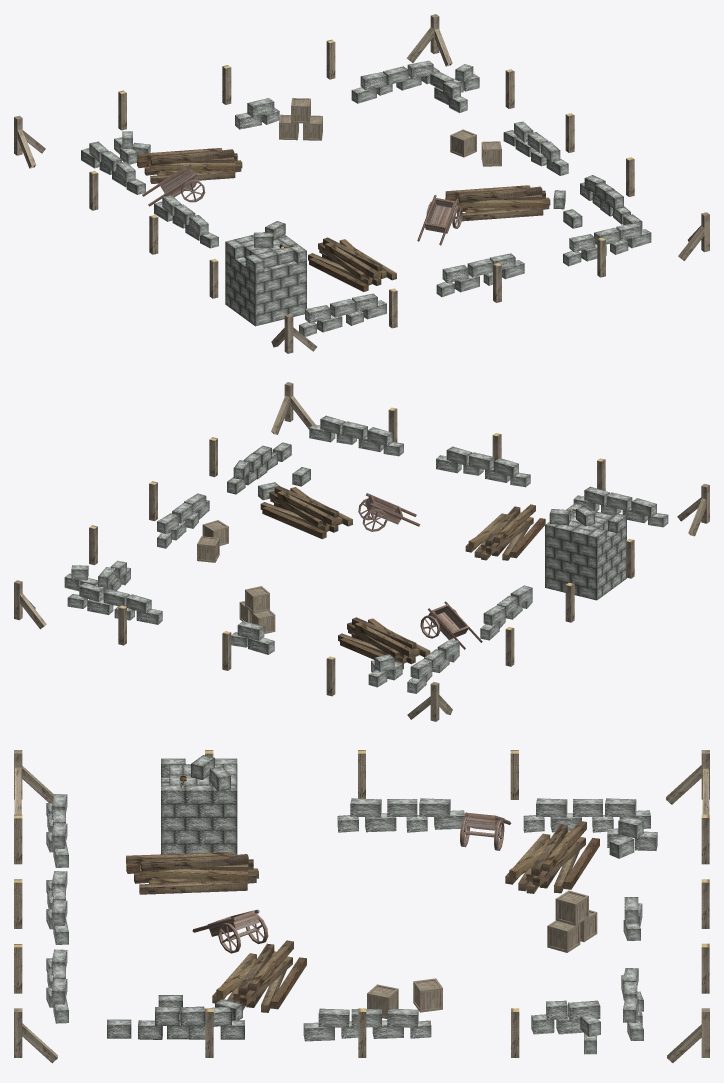
Rendered from fndn_8x9.glb.
3 views of the same model, one above another, from view 1: azimuth 30°, elevation 25°; view 2: azimuth 150°, elevation 25°; view 3: azimuth 270°, elevation 25° (orthographic). The views are drawn at different scales.
Visible parts, largest first — view 1: fndn_8x9_part35, fndn_8x9_part52, fndn_8x9_part51, fndn_8x9_part50, fndn_8x9_part43, fndn_8x9_part41, fndn_8x9_part42, fndn_8x9_part34, fndn_8x9_part22, fndn_8x9_part21, fndn_8x9_part39, fndn_8x9_part40 (+9 smaller); view 2: fndn_8x9_part35, fndn_8x9_part52, fndn_8x9_part50, fndn_8x9_part51, fndn_8x9_part34, fndn_8x9_part41, fndn_8x9_part42, fndn_8x9_part43, fndn_8x9_part22, fndn_8x9_part39, fndn_8x9_part40, fndn_8x9_part21 (+10 smaller); view 3: fndn_8x9_part35, fndn_8x9_part50, fndn_8x9_part51, fndn_8x9_part52, fndn_8x9_part39, fndn_8x9_part22, fndn_8x9_part40, fndn_8x9_part21, fndn_8x9_part32, fndn_8x9_part49, fndn_8x9_part41, fndn_8x9_part42 (+13 smaller).
Part boxes in pixels (<box>): fndn_8x9_part35: <box>225,232,306,326</box>; fndn_8x9_part52: <box>445,185,550,221</box>; fndn_8x9_part51: <box>137,148,242,183</box>; fndn_8x9_part50: <box>308,237,396,291</box>; fndn_8x9_part43: <box>299,293,386,336</box>; fndn_8x9_part41: <box>563,222,651,266</box>; fndn_8x9_part42: <box>436,253,524,297</box>; fndn_8x9_part34: <box>351,60,439,103</box>; fndn_8x9_part22: <box>503,121,568,175</box>; fndn_8x9_part21: <box>430,64,479,113</box>; fndn_8x9_part39: <box>154,195,218,248</box>; fndn_8x9_part40: <box>81,141,145,194</box>; fndn_8x9_part35: <box>545,503,626,600</box>; fndn_8x9_part52: <box>260,486,352,539</box>; fndn_8x9_part50: <box>465,504,545,560</box>; fndn_8x9_part51: <box>338,617,430,669</box>; fndn_8x9_part34: <box>67,582,162,624</box>; fndn_8x9_part41: <box>309,415,403,456</box>; fndn_8x9_part42: <box>436,446,530,487</box>; fndn_8x9_part43: <box>573,486,668,527</box>; fndn_8x9_part22: <box>157,493,209,548</box>; fndn_8x9_part39: <box>480,585,532,640</box>; fndn_8x9_part40: <box>407,638,459,693</box>; fndn_8x9_part21: <box>64,560,130,591</box>; fndn_8x9_part35: <box>161,758,237,854</box>; fndn_8x9_part50: <box>126,851,258,894</box>; fndn_8x9_part51: <box>505,821,599,893</box>; fndn_8x9_part52: <box>212,940,306,1012</box>; fndn_8x9_part39: <box>337,798,464,832</box>; fndn_8x9_part22: <box>303,1008,431,1041</box>; fndn_8x9_part40: <box>523,798,650,832</box>; fndn_8x9_part21: <box>531,1000,600,1054</box>; fndn_8x9_part32: <box>607,816,657,858</box>; fndn_8x9_part49: <box>192,909,268,953</box>; fndn_8x9_part41: <box>46,949,68,1023</box>; fndn_8x9_part42: <box>46,871,68,944</box>.
Bounding box in the file's own units: 6.81 × 1.22 × 7.65.
Materials: 5 (5 with a texture image).
